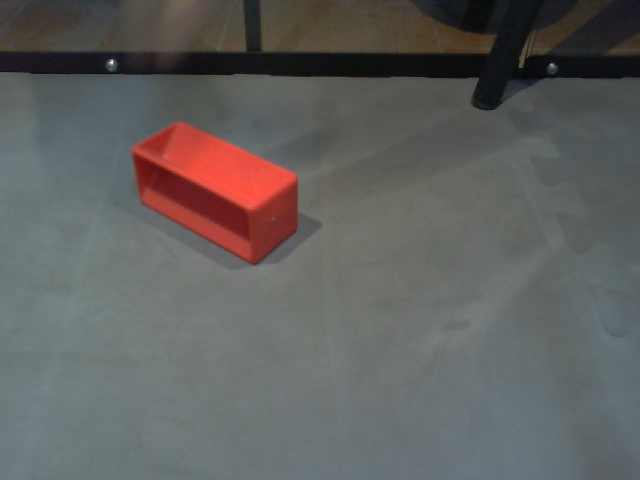RedSample: (130, 120, 300, 265)
